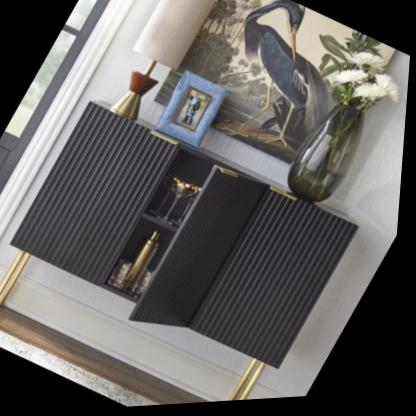Sideboard: (4, 103, 364, 405)
